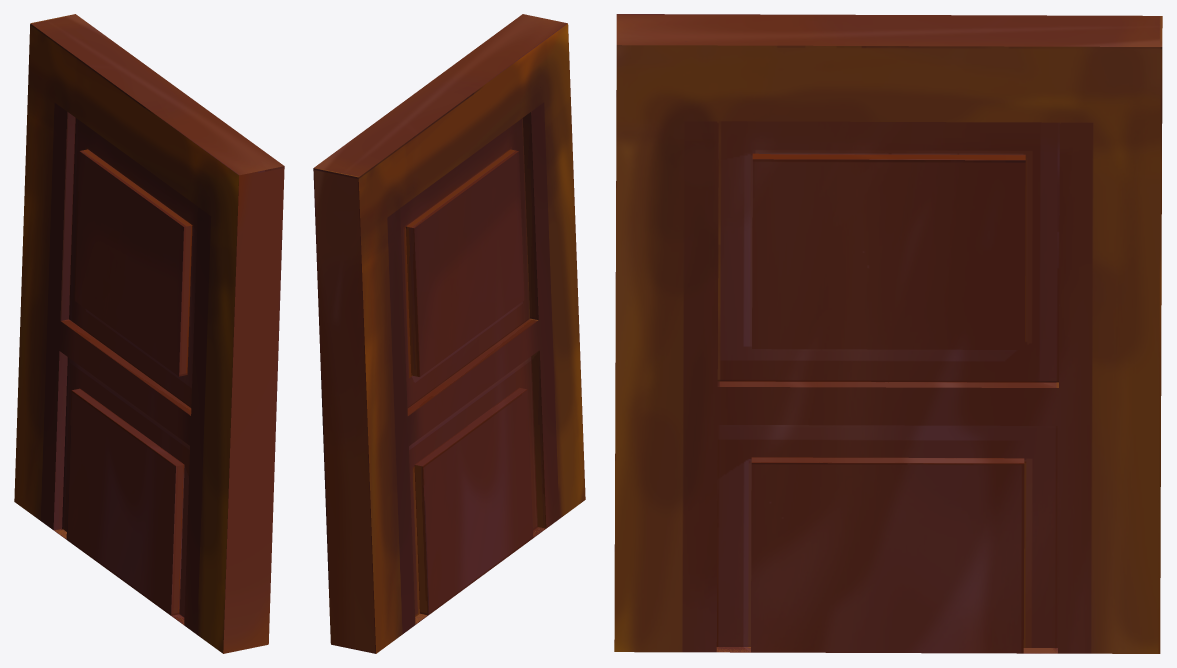
File: door.fbx
The picture shows the model from 3 angles, left to right: view 1: azimuth 30°, elevation 25°; view 2: azimuth 150°, elevation 25°; view 3: azimuth 270°, elevation 25°; orthographic projection. The views are drawn at different scales.
Visible parts, largest first — view 1: Cube; view 2: Cube; view 3: Cube.
Boxes of the visible parts, bbox=[...] form: Cube: bbox=[14, 14, 284, 653]; Cube: bbox=[313, 14, 585, 653]; Cube: bbox=[614, 14, 1162, 653].
Size of the model in its own units: 1.38 by 10.05 by 8.03.
Materials: 1 (1 with a texture image).
